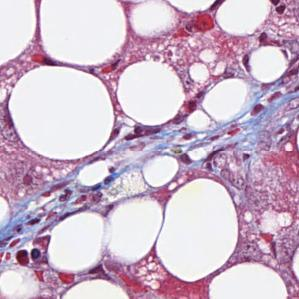inflammation: (4, 230, 51, 271)
